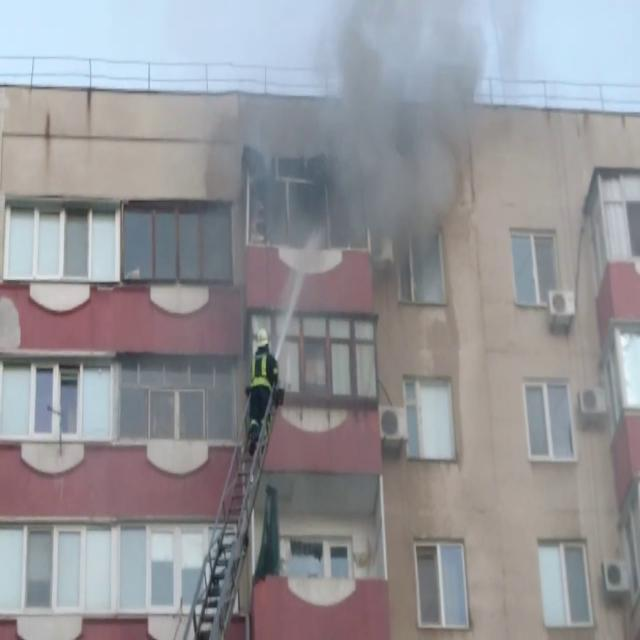Smoke: (302, 1, 497, 290)
